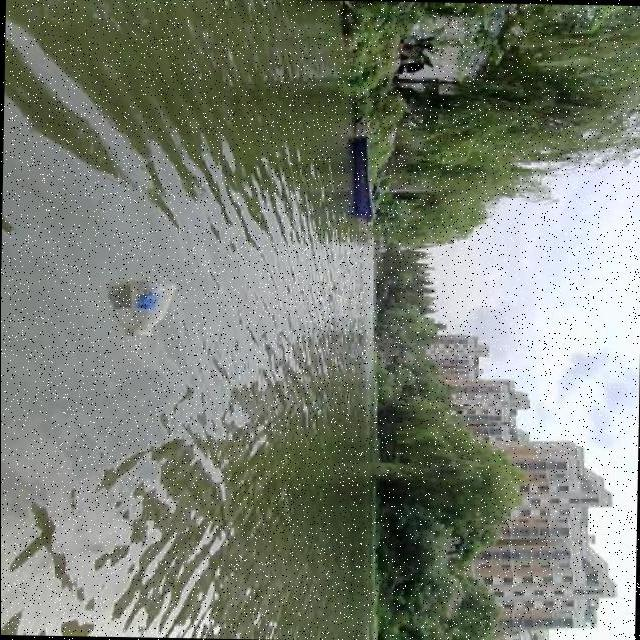Bottle: (122, 273, 184, 342)
